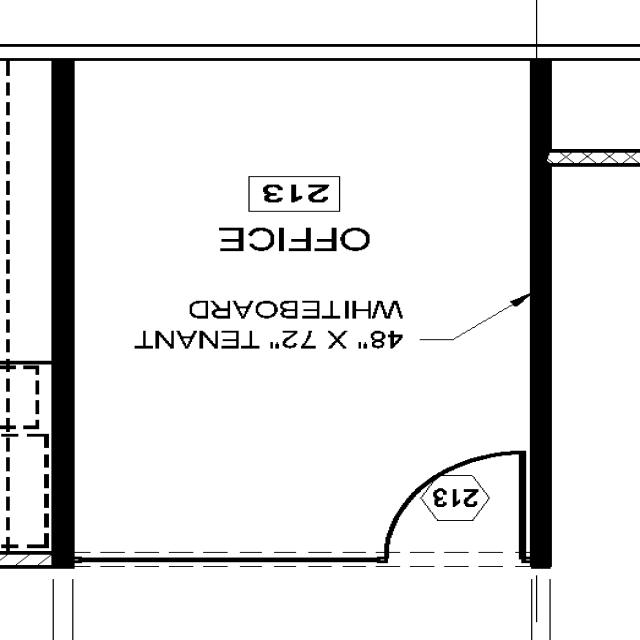Doors: (384, 449, 527, 572)
